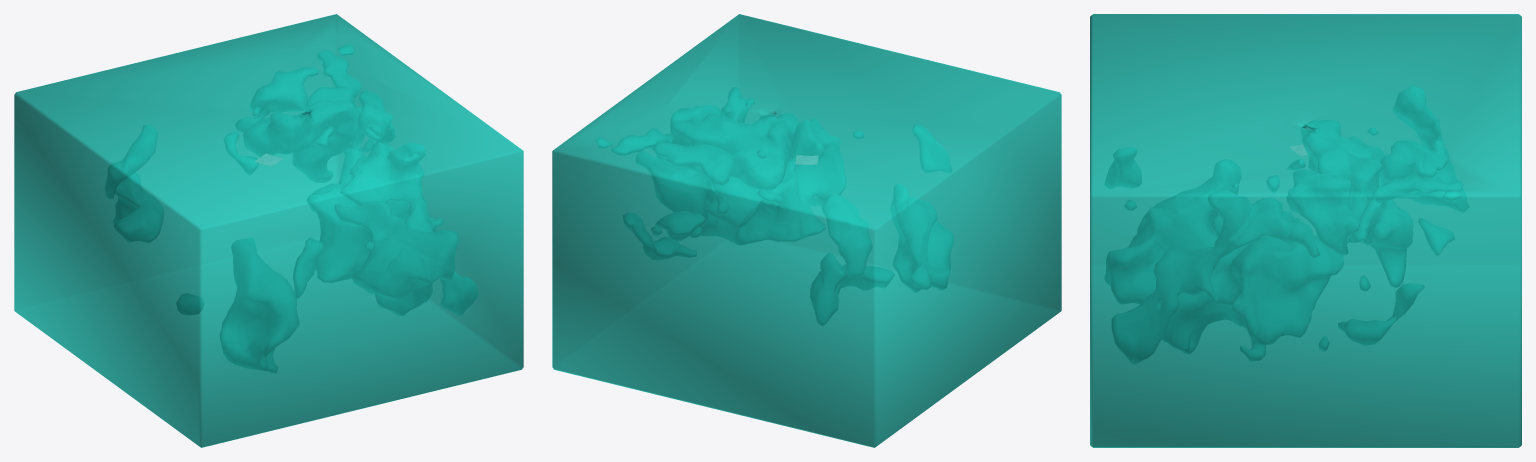
3 renders of one model, left to right at view 1: azimuth 30°, elevation 25°; view 2: azimuth 150°, elevation 25°; view 3: azimuth 270°, elevation 25°, orthographic. The views are drawn at different scales.
Visible parts, largest first — view 1: Liquid_Domain; view 2: Liquid_Domain; view 3: Liquid_Domain.
Boxes of the visible parts, box(x1,y1,x2,y2) form: Liquid_Domain: box(14, 14, 523, 447); Liquid_Domain: box(552, 14, 1061, 447); Liquid_Domain: box(1090, 14, 1521, 447).
Size of the model in its own units: 391 by 254 by 391.
